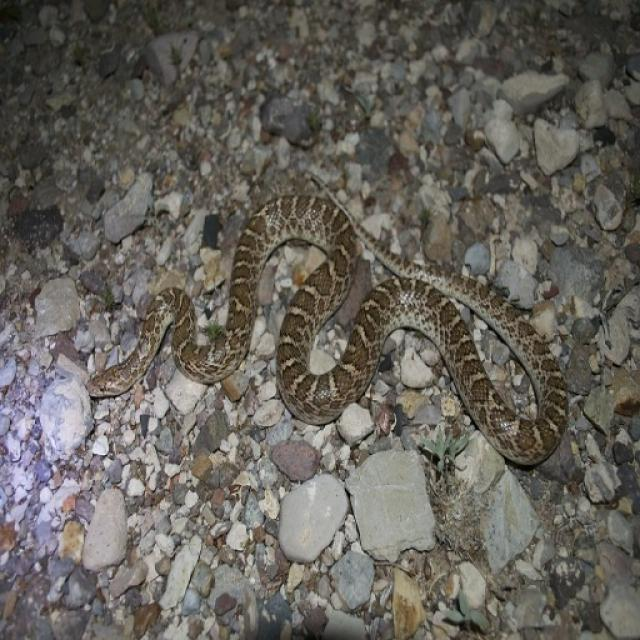snake: (73, 191, 588, 477)
